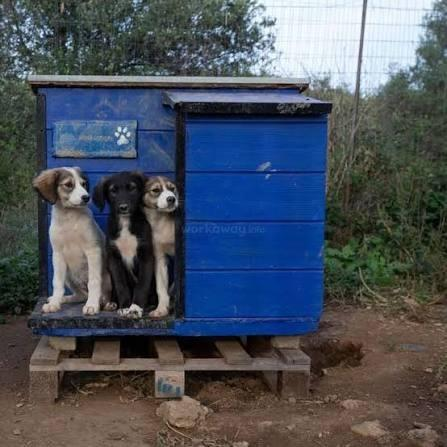puppy-dog: (33, 167, 114, 317), (94, 171, 158, 319), (138, 174, 180, 320)
